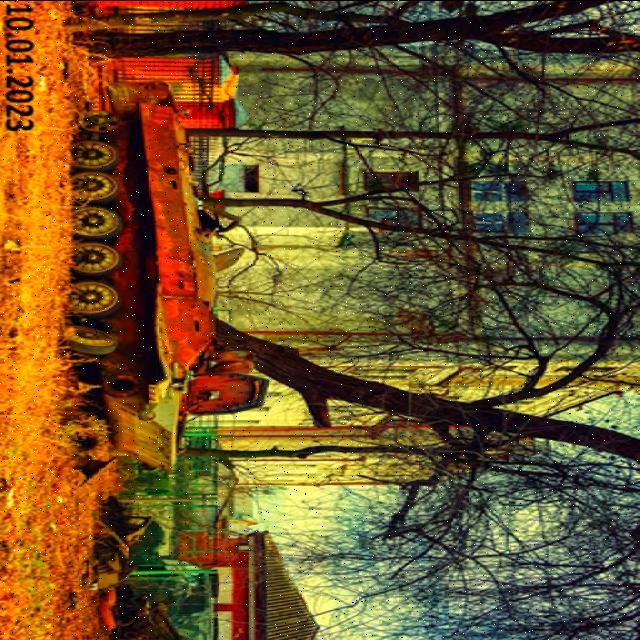APC-IFV: (42, 82, 278, 472)
